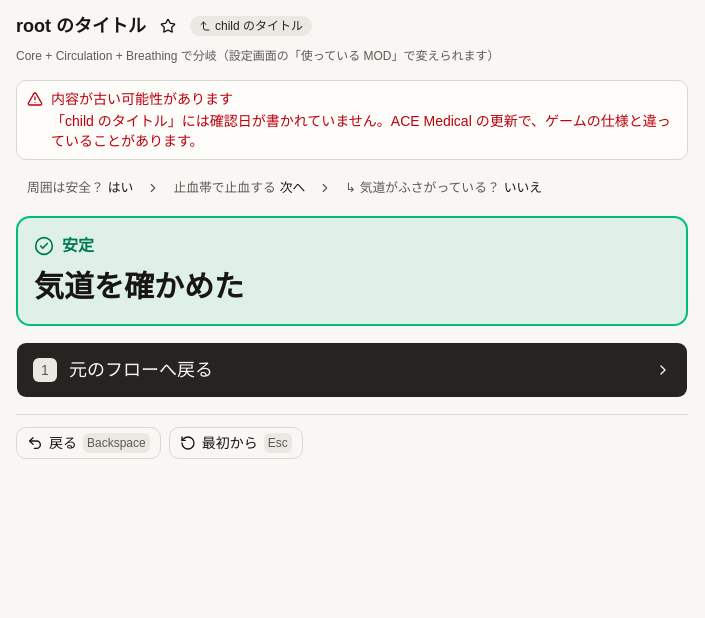
Test: FlowRunner › Backspace で戻り、Esc で最初から、パンくずで途中へ戻る
Press Backspace
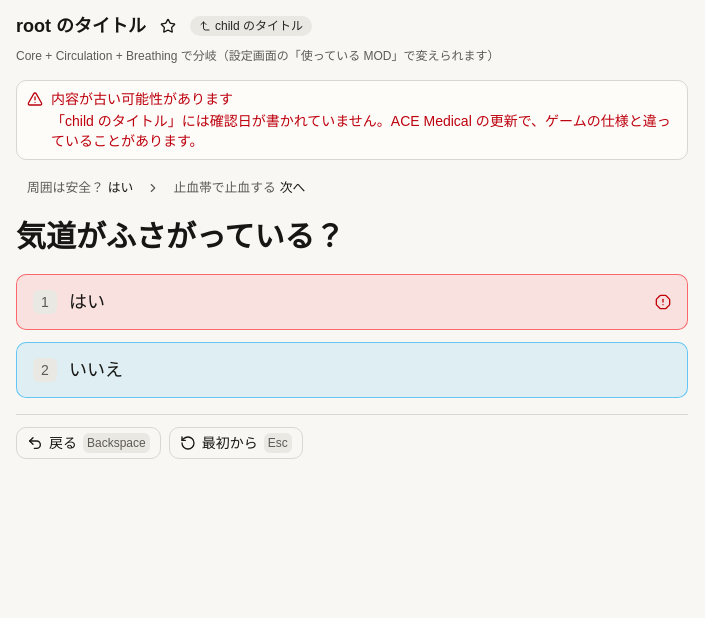
Expected: the heading "気道がふさがっている？" is shown, [16,220,344,253]
Click the button "周囲は安全？ はい" at (80, 188), box [16,176,144,200]
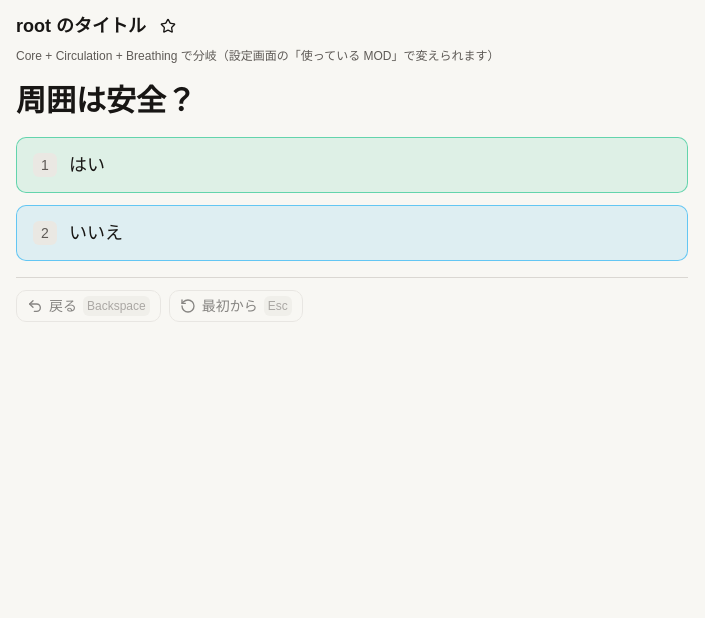
Expected: the heading "周囲は安全？" is shown, [16,84,196,117]
Press 1
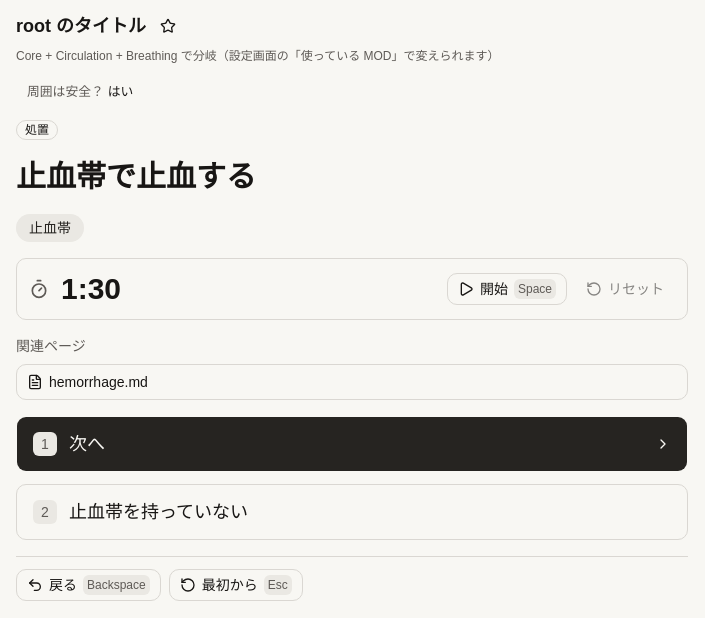
Press Escape
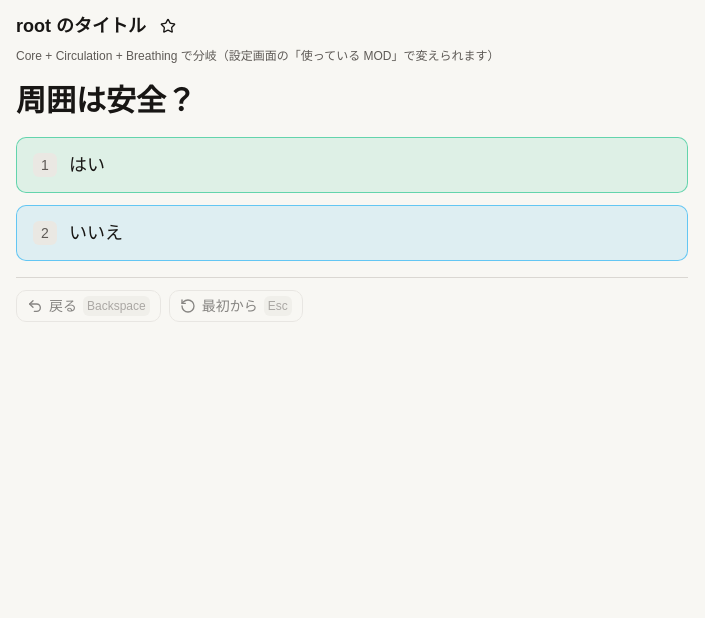
Expected: the heading "周囲は安全？" is shown, [16,84,196,117]
